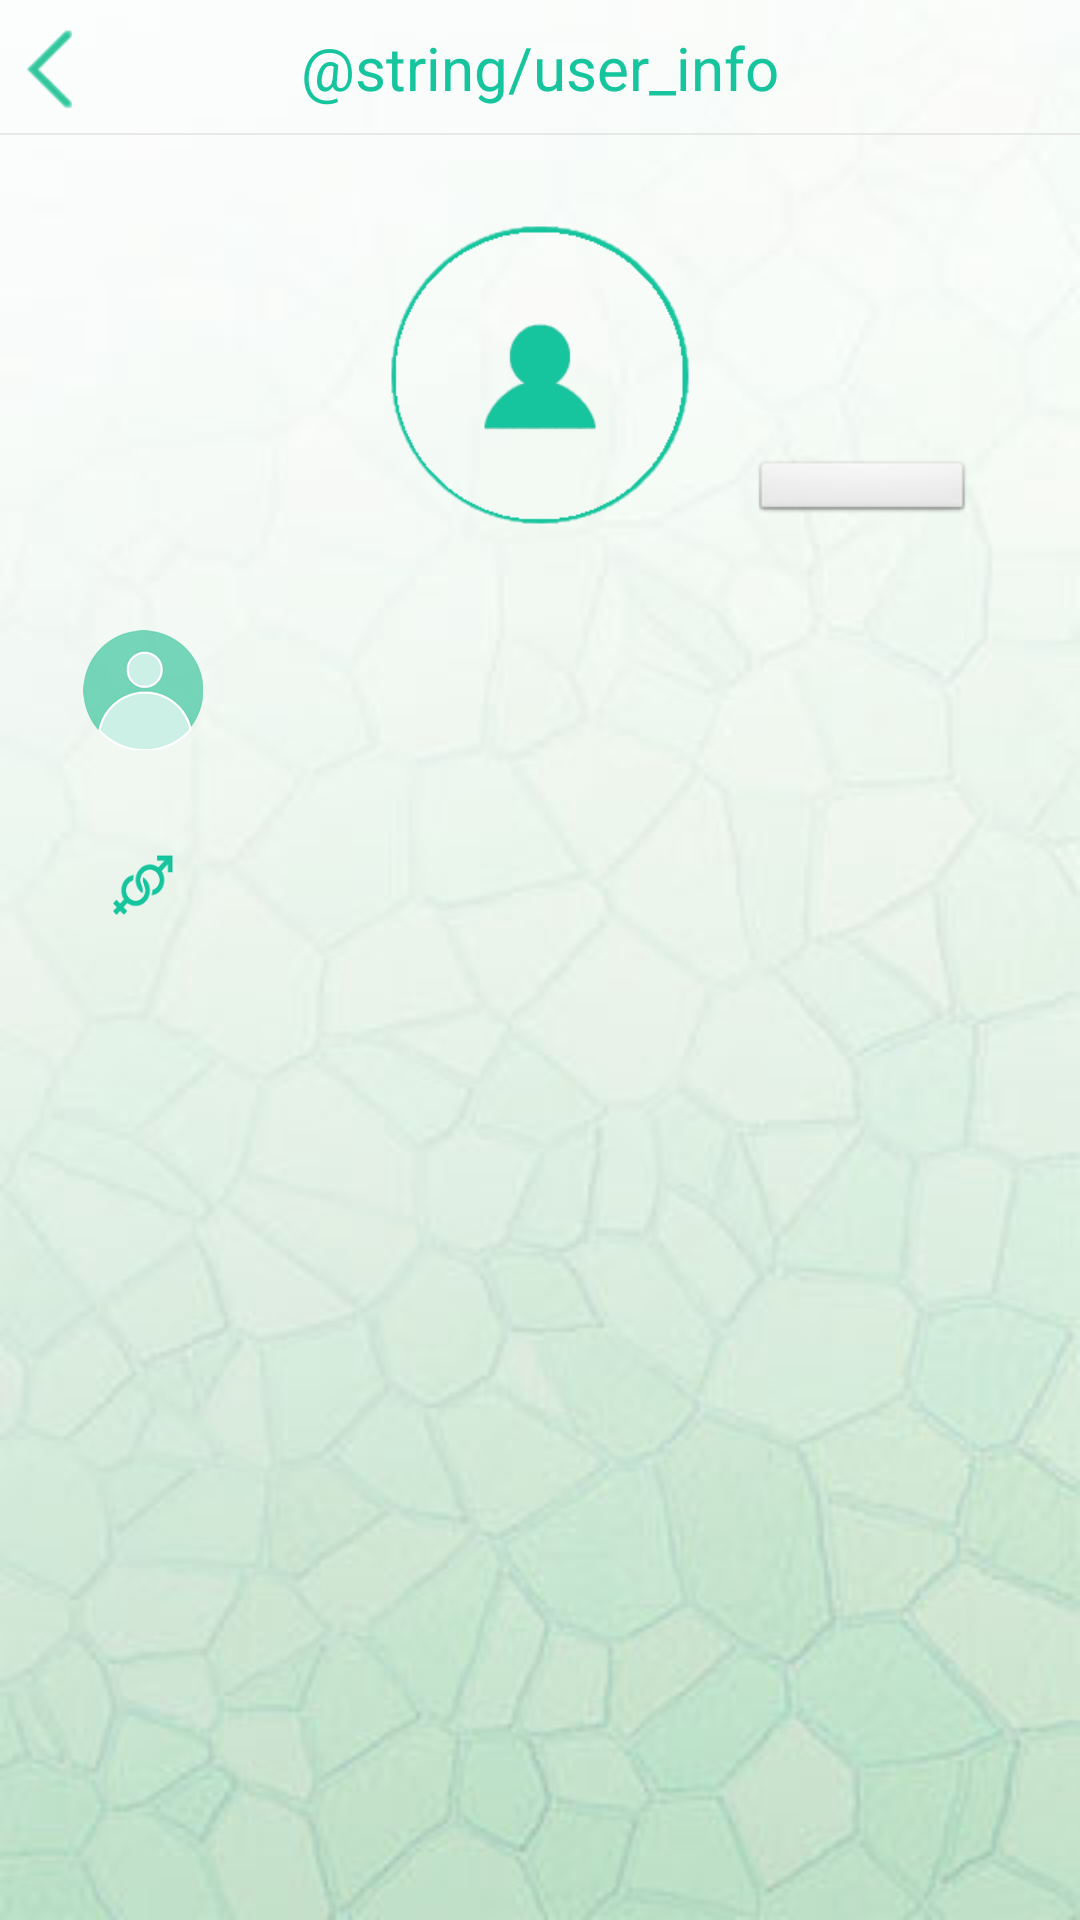

Icons on this 1080 × 1920 Android screen, each with its box as detection(x1, y1, x2, y2):
gender: detection(113, 855, 173, 915)
